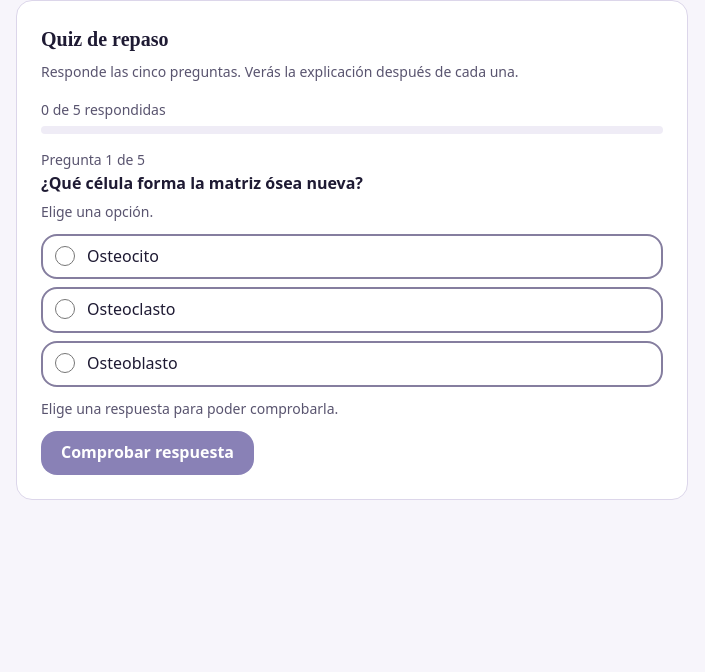
Test: ActividadQuiz: retroalimentación inmediata tras cada pregunta › fallo: dice cuál era la correcta, sin depender del color, y muestra la explicación de la opción
Click the radio button labelled "Osteocito" at [65, 256], box [55, 246, 75, 266]
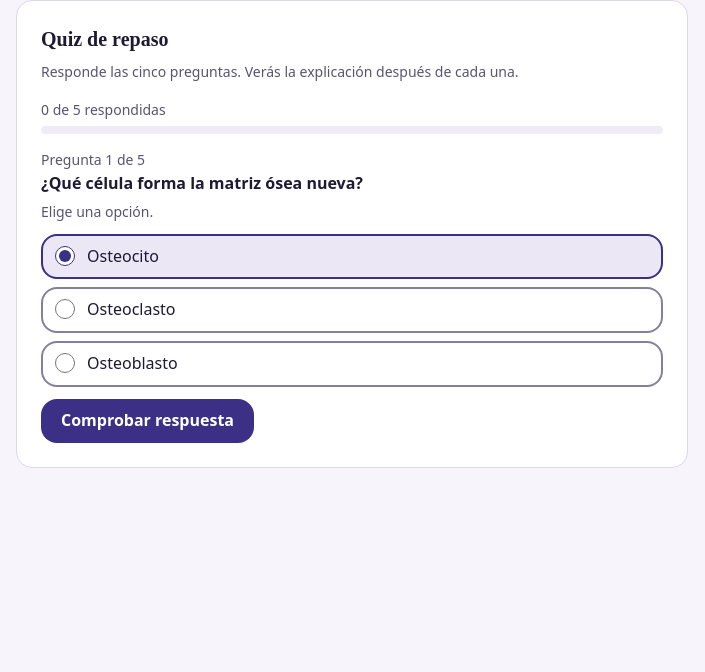
Click the button "Comprobar respuesta" at [148, 420], box [41, 398, 254, 442]
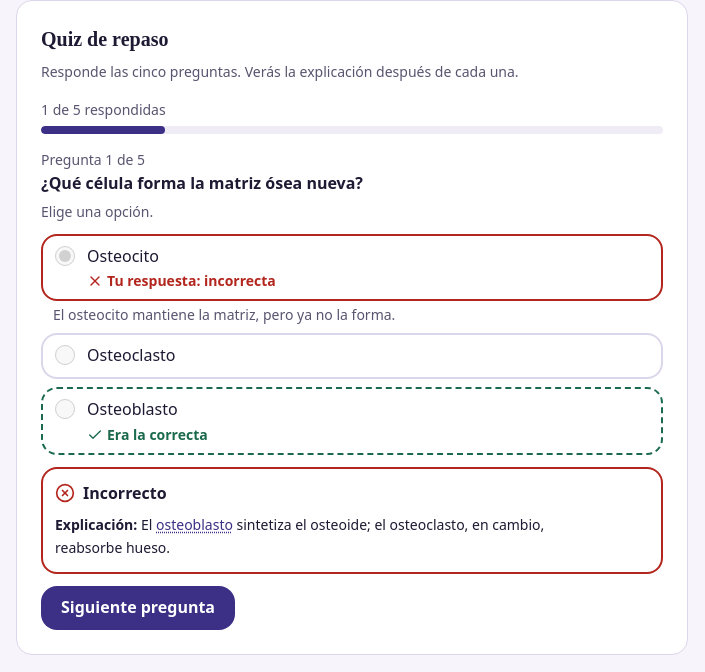
Expected: the text "Tu respuesta: incorrecta" is shown, [87, 271, 276, 290]
Expected: the text "Era la correcta" is shown, [87, 424, 208, 444]
Expected: the text "El osteocito mantiene la matriz, pero ya no la forma." is shown, [53, 305, 395, 324]
